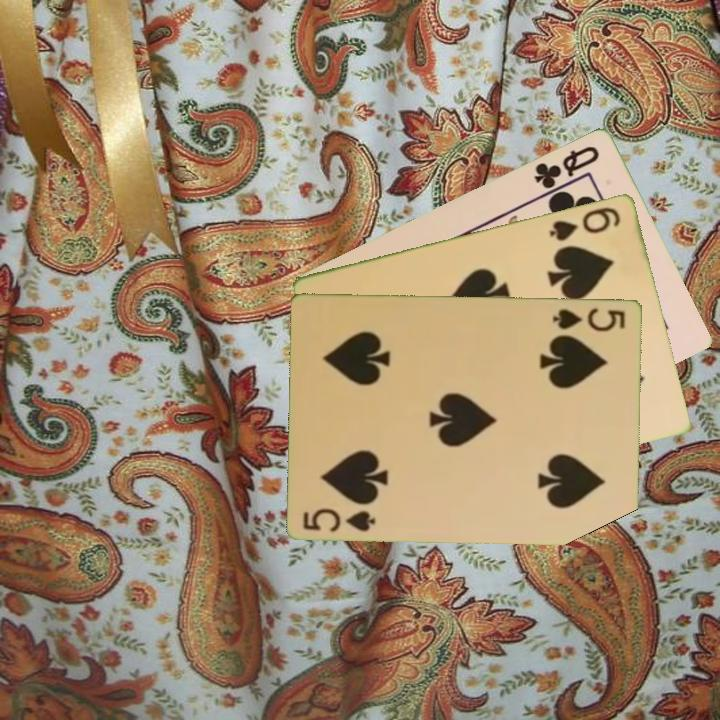5s: (550, 304, 629, 334), (300, 504, 379, 534)
6s: (546, 203, 624, 244)
Qc: (530, 141, 603, 191)
